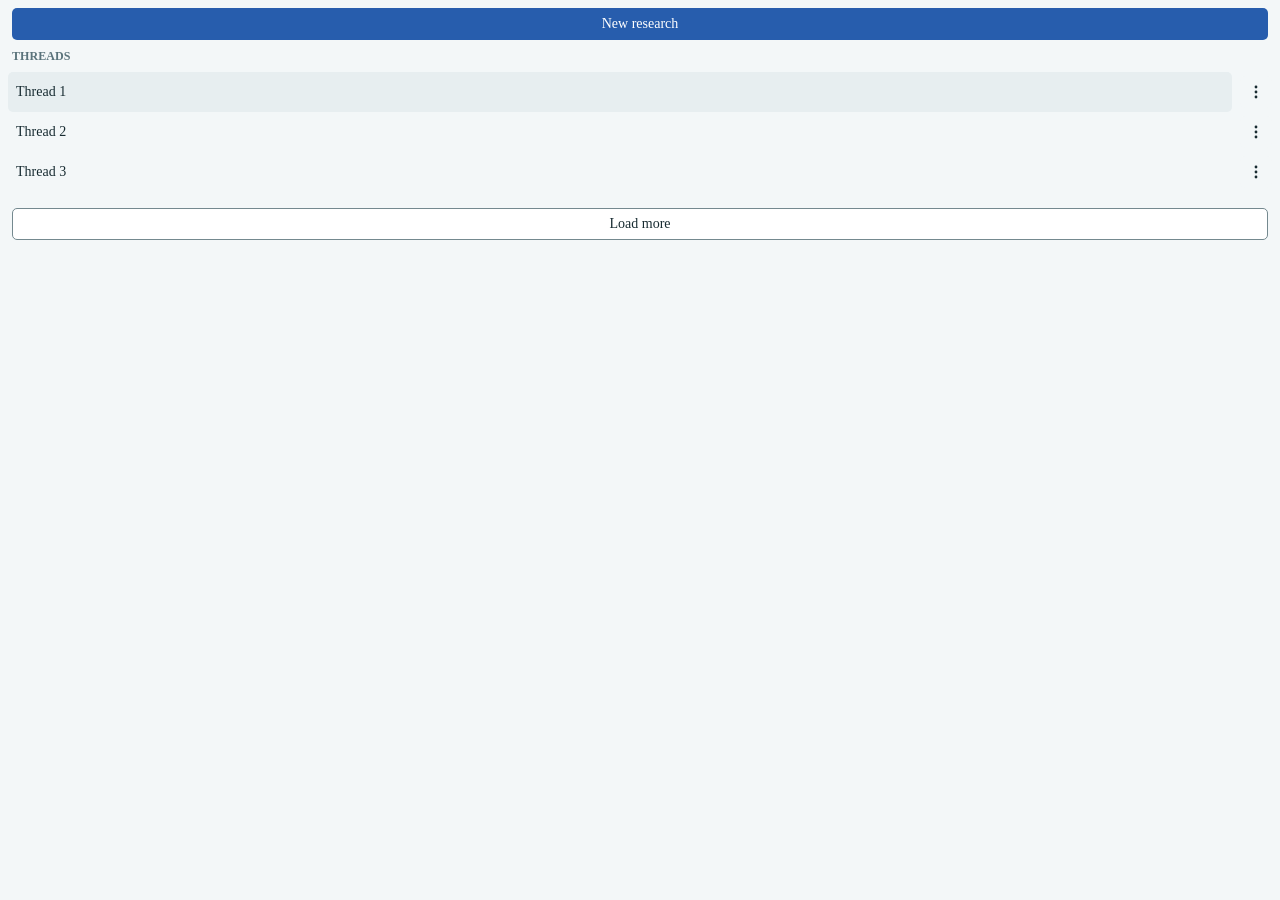
Test: criterion 3 — deletion, end to end › stays put when the deleted thread is not the one on screen
The width and height of the screenshot is (1280, 900).
Expected: the link "Thread 1" is shown, [8, 72, 1232, 112]
Step 1. Click the button named "Thread actions: Thread 2" → (1256,132), box [1240, 116, 1272, 148]
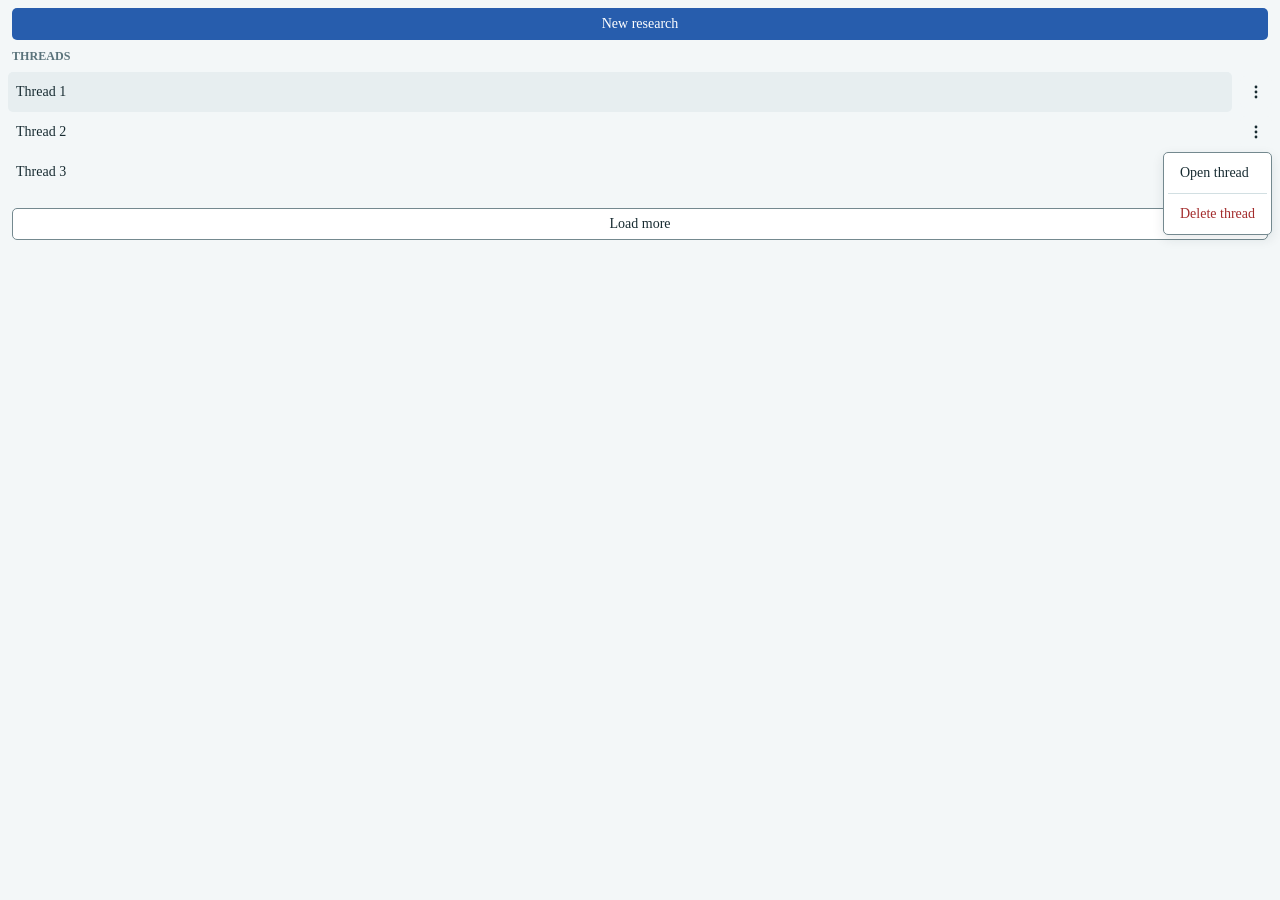
Step 2. Click the menu item "Delete thread" → (1218,214), box [1180, 206, 1255, 221]
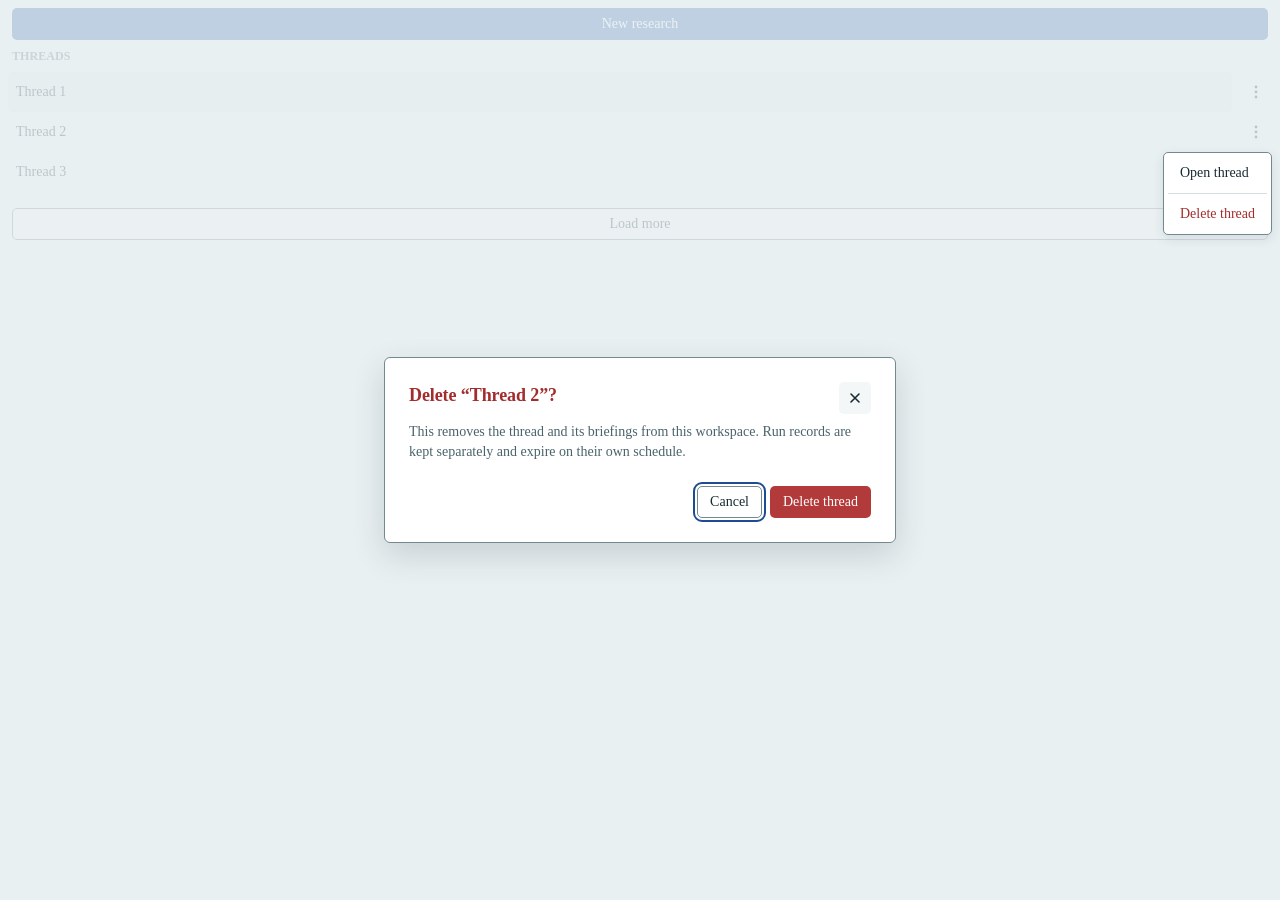
Expected: the dialog is shown, [384, 357, 896, 543]
Step 3. Click the button "Delete thread" → (820,502), box [770, 486, 871, 518]
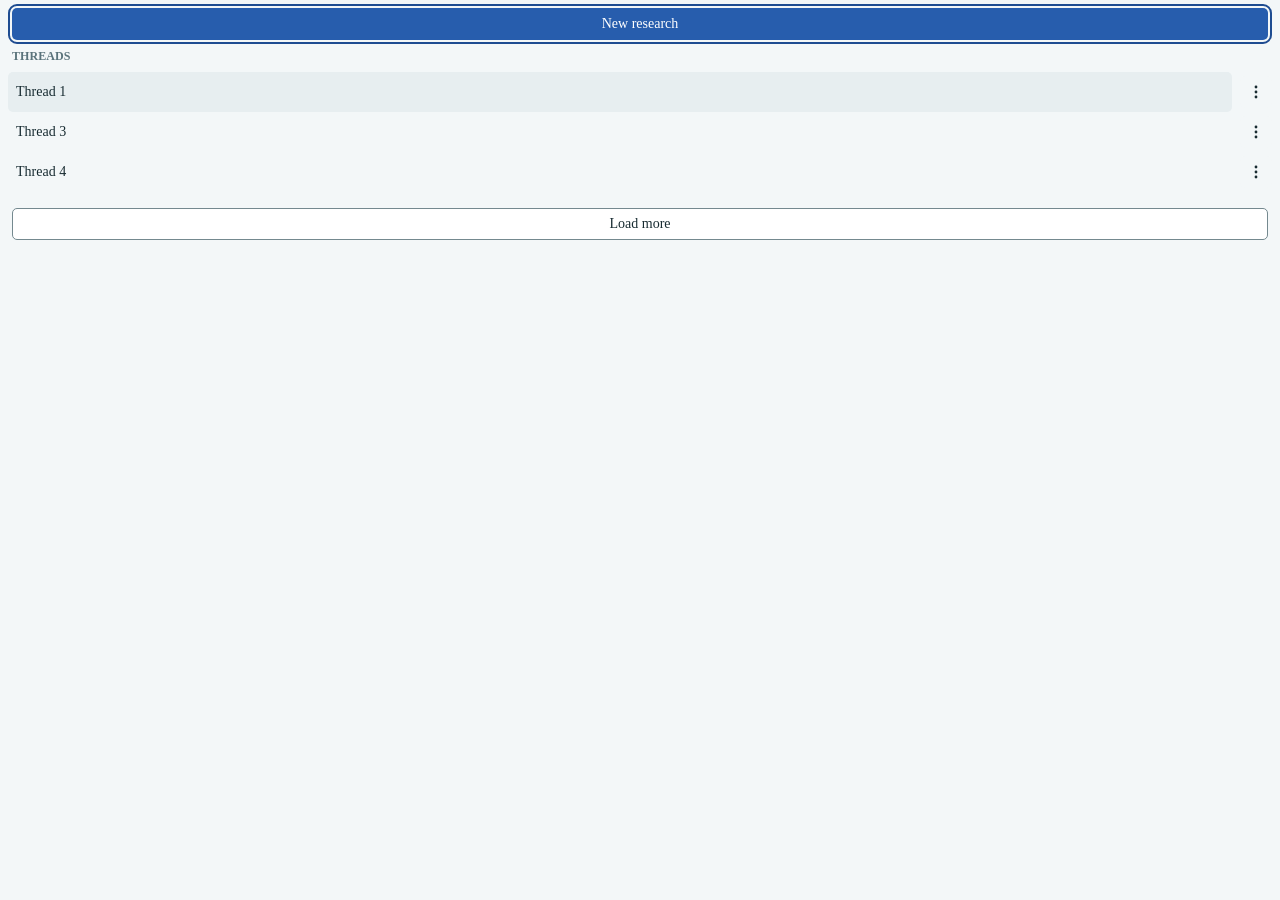
Expected: the link "Thread 2" is gone
